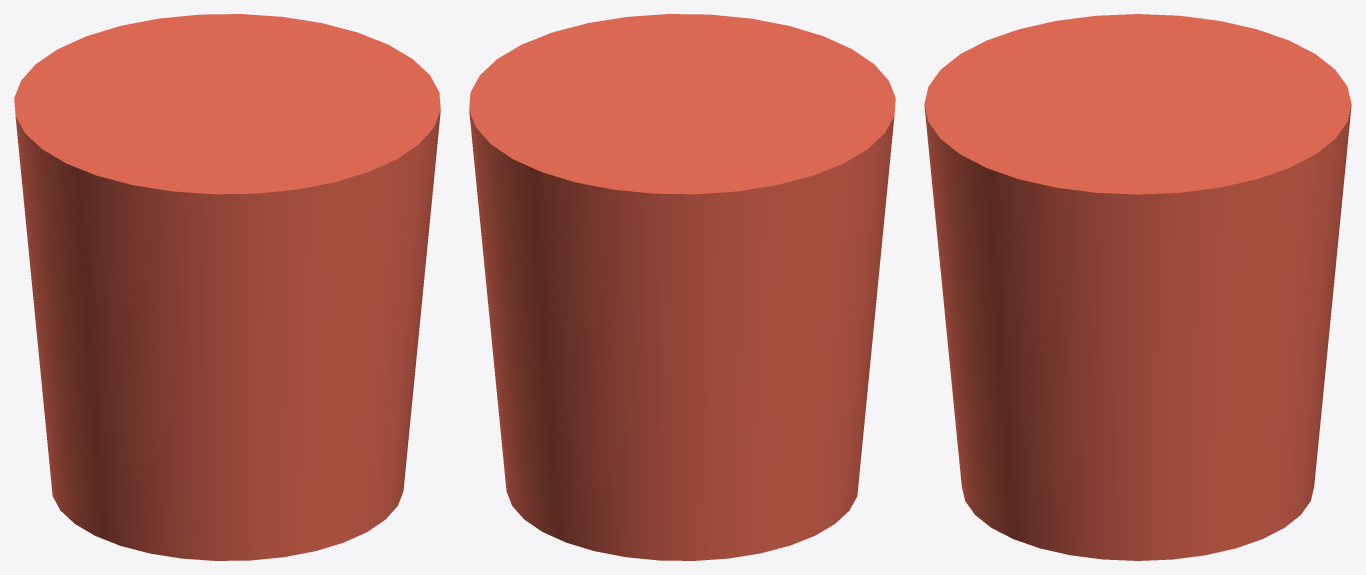
3 views of the same model, side by side, from view 1: azimuth 30°, elevation 25°; view 2: azimuth 150°, elevation 25°; view 3: azimuth 270°, elevation 25° (orthographic).
Parts seen in each view (by area): view 1: Cylinder; view 2: Cylinder; view 3: Cylinder.
Part boxes in pixels (x1,y1,x2,y2): Cylinder: (14, 14, 440, 560); Cylinder: (469, 14, 895, 560); Cylinder: (924, 14, 1351, 560).
Bounding box in the file's own units: 1.2 × 1.18 × 1.2.
